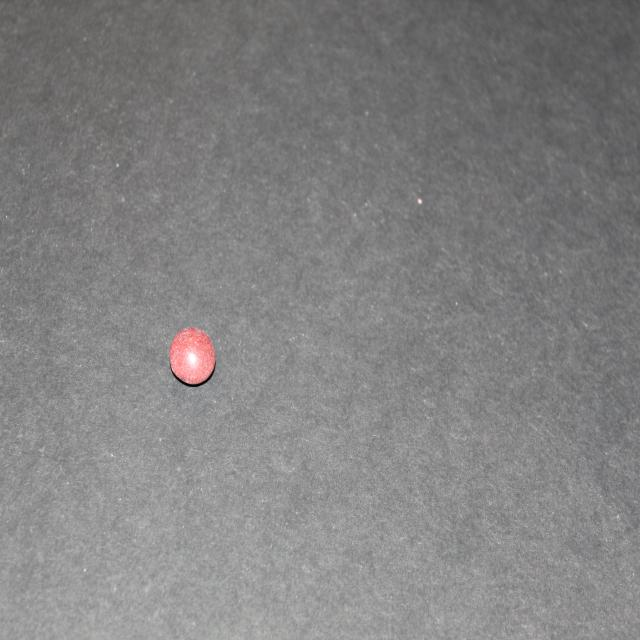smartie: (169, 328, 218, 389)
